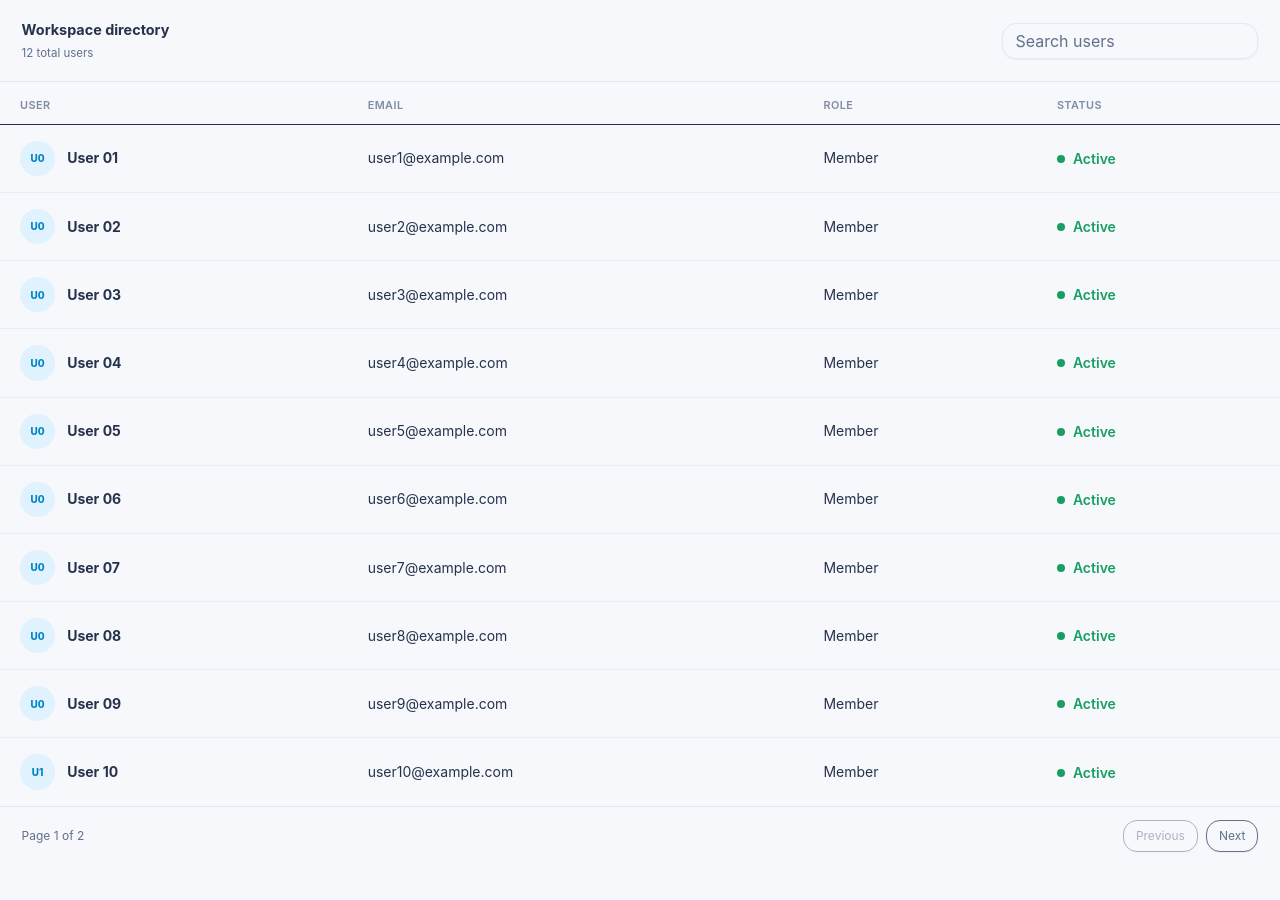
UsersDirectory › paginates long lists with correct control bounds
The width and height of the screenshot is (1280, 900).
Expected: the text "Page 1 of 2" is shown, [22,827,84,845]
Expected: the button with aria-label "Previous page" is disabled, [1123,820,1198,852]
Click the button with aria-label "Next page" at (1232, 836), box [1206,820,1258,852]
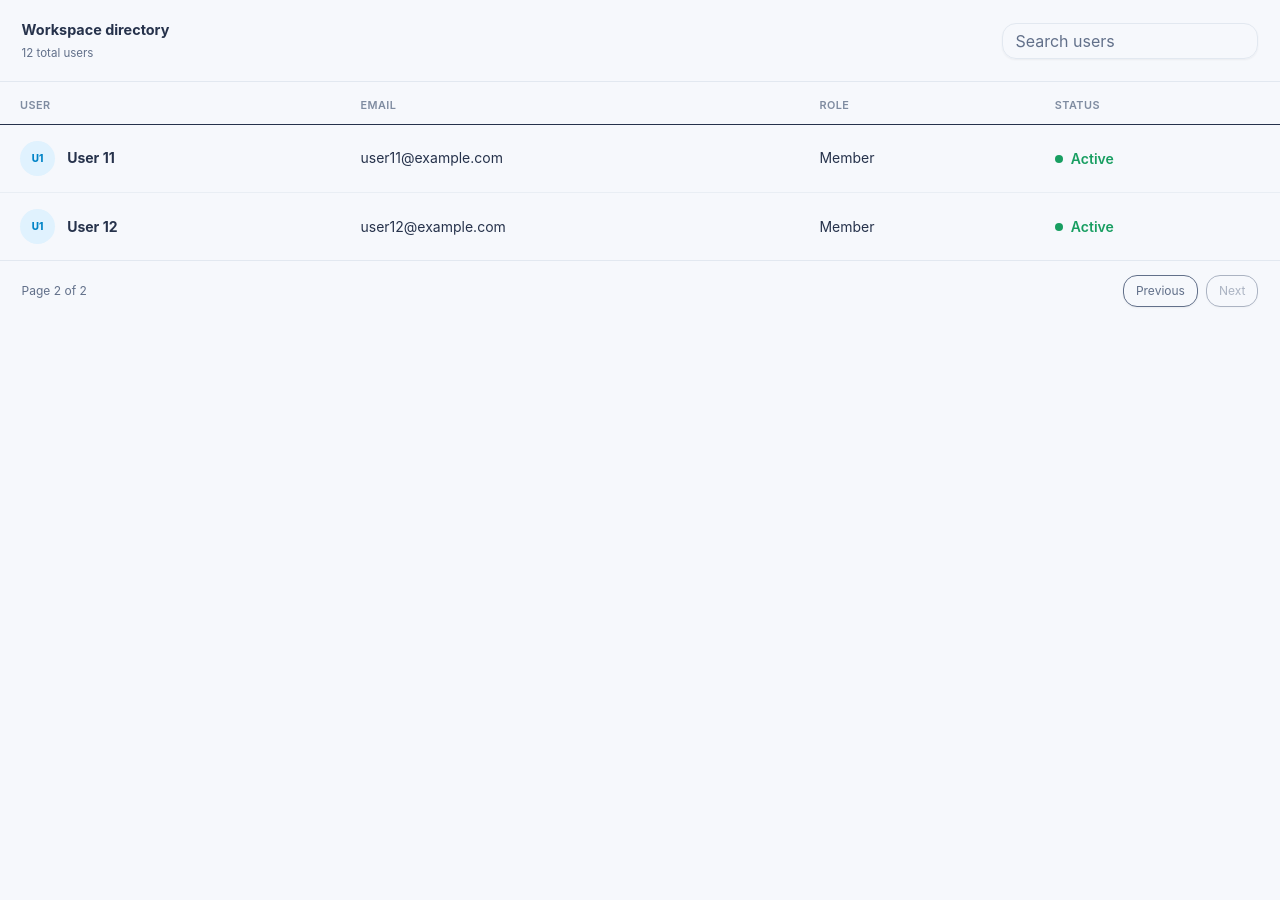
Expected: the number of rows is 3, [0,82,1279,124]; [0,125,1279,192]; [0,192,1279,260]
Expected: the text "Page 2 of 2" is shown, [22,282,87,300]
Expected: the button with aria-label "Next page" is disabled, [1206,275,1258,307]
